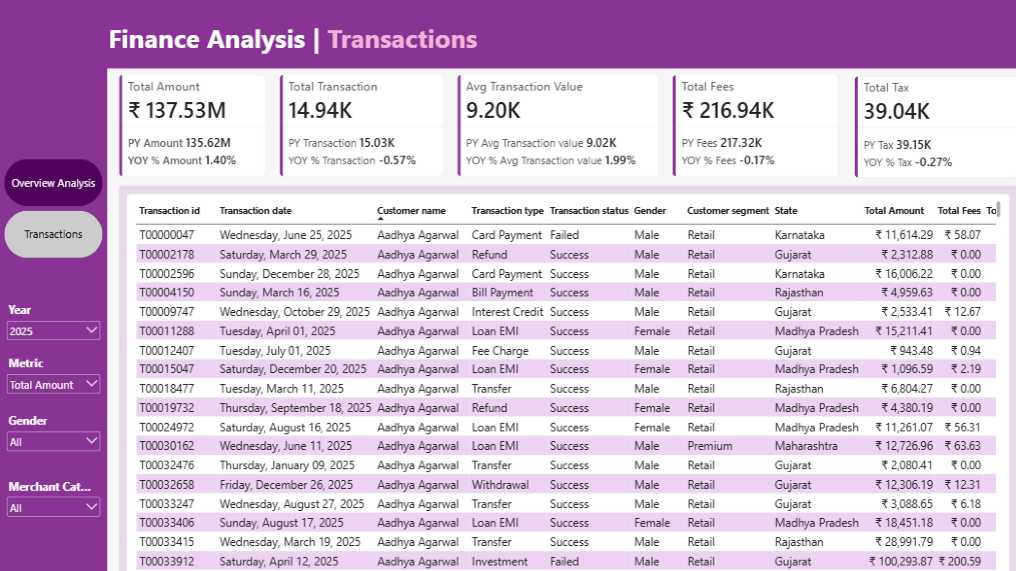

What the dashboard file says about the page in this screenshot:
{"tool":"powerbi","page":{"name":"Transactions","canvas":[1920,1280],"ordinal":1},"visuals":[{"type":"shape","box":[0,0,1920.4,133.8],"z":0},{"type":"cardVisual","fields":{"Data":["finance_transactions.Total Amount"]},"box":[222.3,144.1,275.8,191.4],"z":1000},{"type":"shape","box":[0,133,200.7,1063.7],"z":2000},{"type":"slicer","fields":{"Values":["calendar table.Date.Variation.Date Hierarchy.Year"]},"box":[8.2,570.2,185.2,74.1],"z":3000},{"type":"cardVisual","fields":{"Data":["calendar table.Total Transaction"]},"box":[522.8,144.1,308.7,191.4],"z":4000},{"type":"cardVisual","fields":{"Data":["calendar table.Avg Transaction Value"]},"box":[856.3,146.1,378.7,191.4],"z":5000},{"type":"cardVisual","fields":{"Data":["calendar table.Total Fees"]},"box":[1259.7,146.1,312.9,191.4],"z":6000},{"type":"cardVisual","fields":{"Data":["calendar table.Total Tax"]},"box":[1599.3,148.2,306.7,191.4],"z":7000},{"type":"textbox","box":[201.7,43.2,903.6,70],"z":8000},{"type":"slicer","fields":{"Values":["Metric.Metric"]},"box":[8.2,671,185.2,100.9],"z":9000},{"type":"shape","box":[222.4,353,1682.7,843.7],"z":10000},{"type":"slicer","fields":{"Values":["customers.gender"]},"box":[8.2,780.1,185.2,100.9],"z":11000},{"type":"slicer","fields":{"Values":["finance_transactions.merchant_category"]},"box":[8.2,901.5,185.2,100.9],"z":12000},{"type":"tableEx","fields":{"Values":["finance_transactions.transaction_id","finance_transactions.transaction_date","customers.customer_name","finance_transactions.transaction_type","finance_transactions.transaction_status","customers.gender","customers.customer_segment","customers.state","finance_transactions.Total Amount","calendar table.Total Fees","calendar table.Total Tax"]},"box":[236.9,367.5,1653.6,812.3],"z":13000},{"type":"pageNavigator","box":[8.2,302.6,185.2,187.3],"z":14001}]}

Visuals, with their boxes on the page's 1920x1280 design canvas (x1, y1, x2, y2). These are canvas units, not pixel positions in the 1016x571 screenshot, which may show the page scaled, cropped or inside an application window:
shape: <region>0, 0, 1920, 134</region>
cardVisual - finance_transactions.Total Amount: <region>222, 144, 498, 336</region>
shape: <region>0, 133, 201, 1197</region>
slicer - calendar table.Date.Variation.Date Hierarchy.Year: <region>8, 570, 193, 644</region>
cardVisual - calendar table.Total Transaction: <region>523, 144, 832, 336</region>
cardVisual - calendar table.Avg Transaction Value: <region>856, 146, 1235, 338</region>
cardVisual - calendar table.Total Fees: <region>1260, 146, 1573, 338</region>
cardVisual - calendar table.Total Tax: <region>1599, 148, 1906, 340</region>
textbox: <region>202, 43, 1105, 113</region>
slicer - Metric.Metric: <region>8, 671, 193, 772</region>
shape: <region>222, 353, 1905, 1197</region>
slicer - customers.gender: <region>8, 780, 193, 881</region>
slicer - finance_transactions.merchant_category: <region>8, 902, 193, 1002</region>
tableEx - finance_transactions.transaction_id x finance_transactions.transaction_date: <region>237, 368, 1890, 1180</region>
pageNavigator: <region>8, 303, 193, 490</region>
